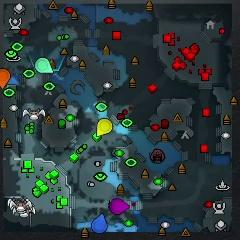p1: (92, 213, 107, 233)
p2: (35, 58, 52, 74)
p3: (110, 199, 129, 212)
p4: (97, 118, 112, 133)
p5: (0, 69, 11, 88)
